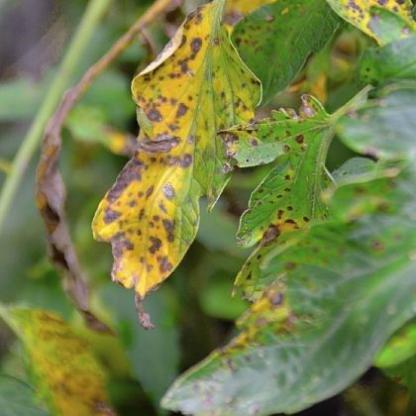potato leaf early blight: (94, 2, 264, 301), (235, 166, 331, 310), (218, 97, 340, 172)
